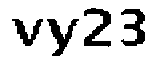2: (81, 6, 114, 48)
3: (120, 7, 148, 48)
v: (11, 16, 43, 48)
y: (46, 16, 80, 59)
